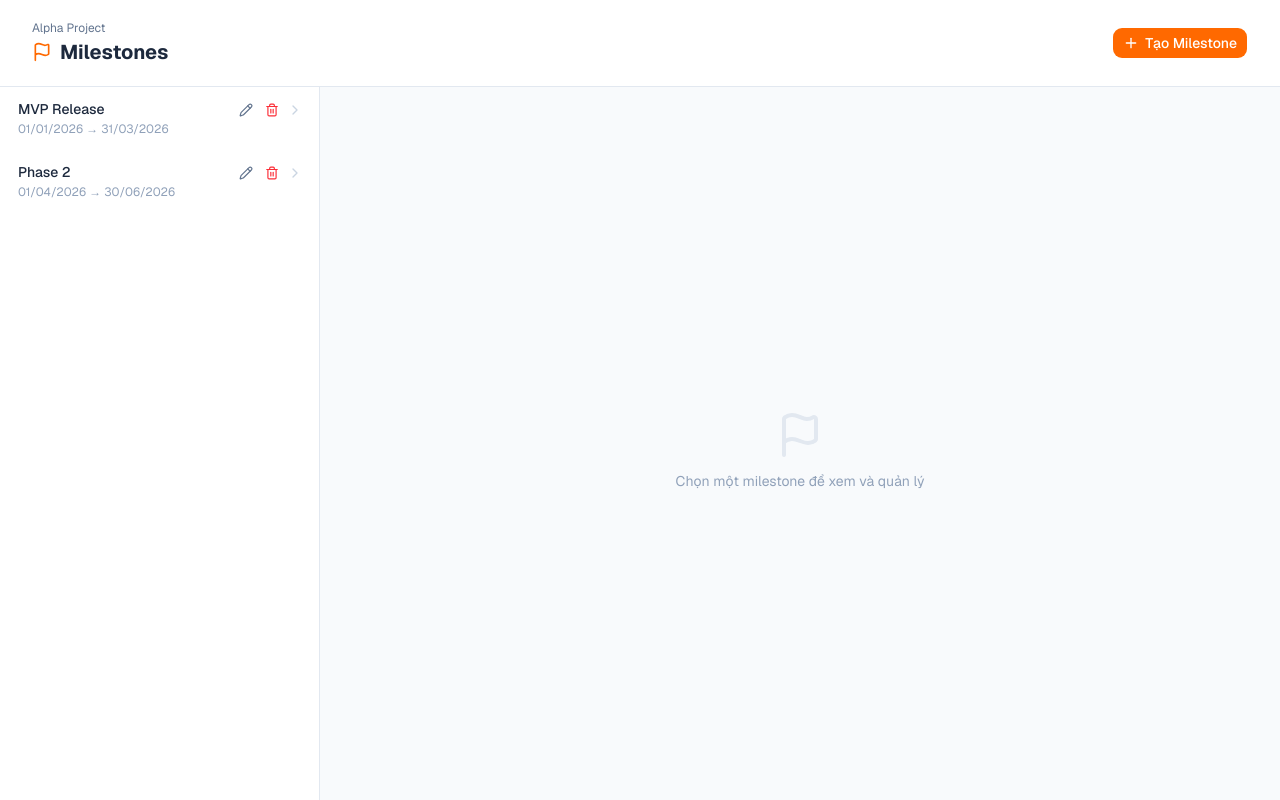
Test: MilestonesPage › selects milestone row and shows milestone detail toolbar
The width and height of the screenshot is (1280, 800).
Click the text "MVP Release" at (61, 109), box [18, 100, 105, 118]
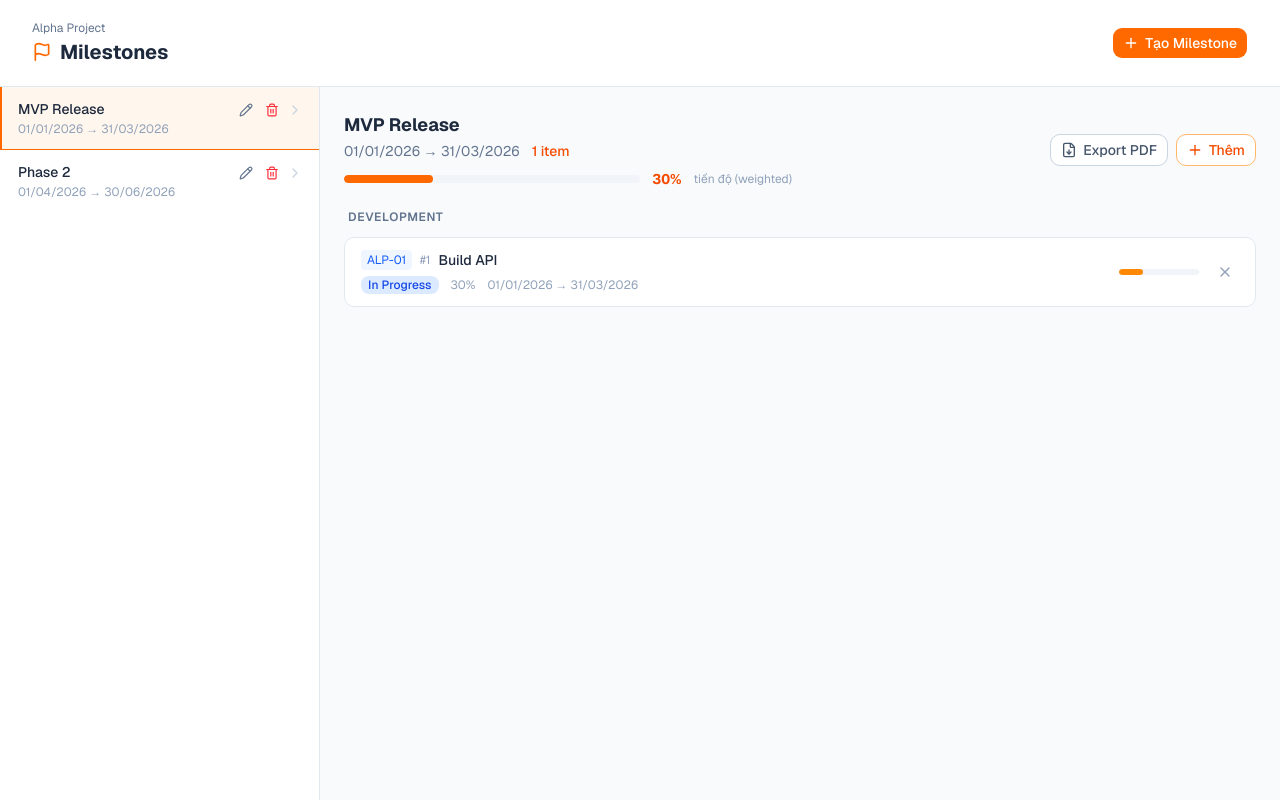
Result: the heading "MVP Release" is shown at [344, 113, 460, 136]
Result: the button "Export PDF" is shown at [1050, 134, 1168, 166]
Result: the text "Build API" is shown at [438, 250, 497, 270]
